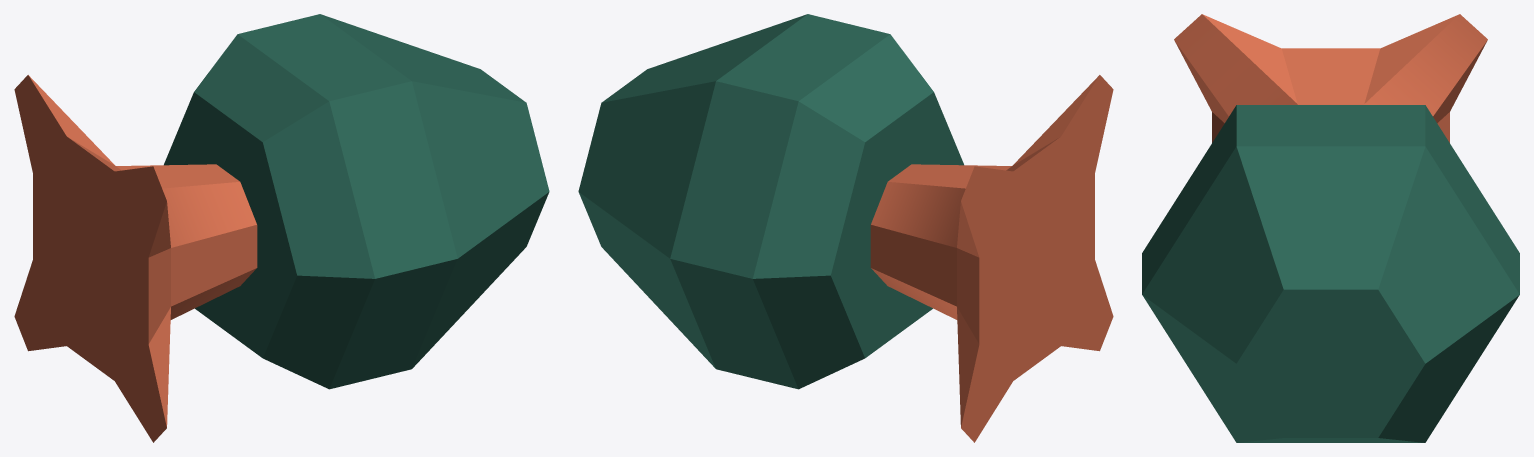
Rendered from tree-1.glb.
3 views of the same model, side by side, from view 1: azimuth 30°, elevation 25°; view 2: azimuth 150°, elevation 25°; view 3: azimuth 270°, elevation 25° (orthographic). The views are drawn at different scales.
Parts seen in each view (by area): view 1: mergedBlocks(Clone); view 2: mergedBlocks(Clone); view 3: mergedBlocks(Clone).
Boxes of the visible parts, box(x1,y1,x2,y2) form: mergedBlocks(Clone): box(14, 14, 549, 442); mergedBlocks(Clone): box(578, 14, 1113, 442); mergedBlocks(Clone): box(1142, 14, 1519, 442).
Bounding box in the file's own units: 1.5 × 1 × 1.15.
